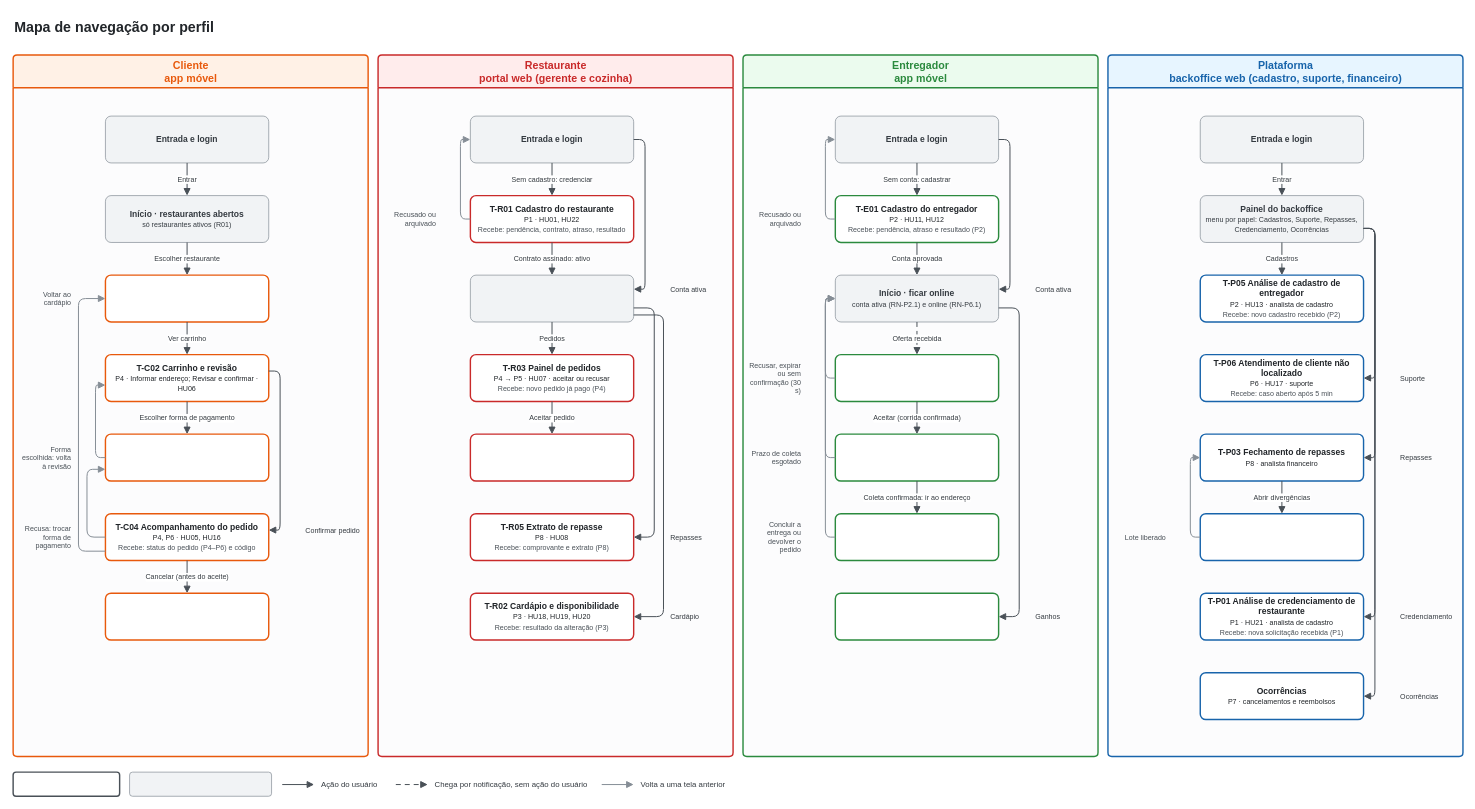
Some shapes in this 1475 by 809 pixel diagram are drawn without their labels. Here are the shapes that lost their labels. From the top down, the centre of each, then its label:
[186,298]: T-C01 Cardápio do restaurante P4 · Montar carrinho
[552,298]: Painel do restaurante menu: Pedidos, Repasses, Cardápio
[916,378]: T-E02 Oferta de corrida P6 · HU03 Recebe: oferta com 1 min para responder
[186,457]: T-C03 Pagamento P4 · Escolher forma de pagamento · HU02
[551,457]: Preparo do pedido P5 · marcar pedido como pronto
[916,457]: T-E03 Corrida em andamento P6 · HU14
[916,537]: T-E04 Confirmação da entrega P6 · HU15 Recebe: orientação do suporte (P6)
[1281,537]: T-P04 Fila de divergências P8 · HU10 · analista financeiro
[186,616]: T-C05 Cancelamento do pedido P7 · HU04
[916,616]: T-E05 Ganhos e repasses P8 · HU09 Recebe: comprovante ou pendência (P8)
[66,784]: Tela de processo
[200,783]: Tela de navegação
